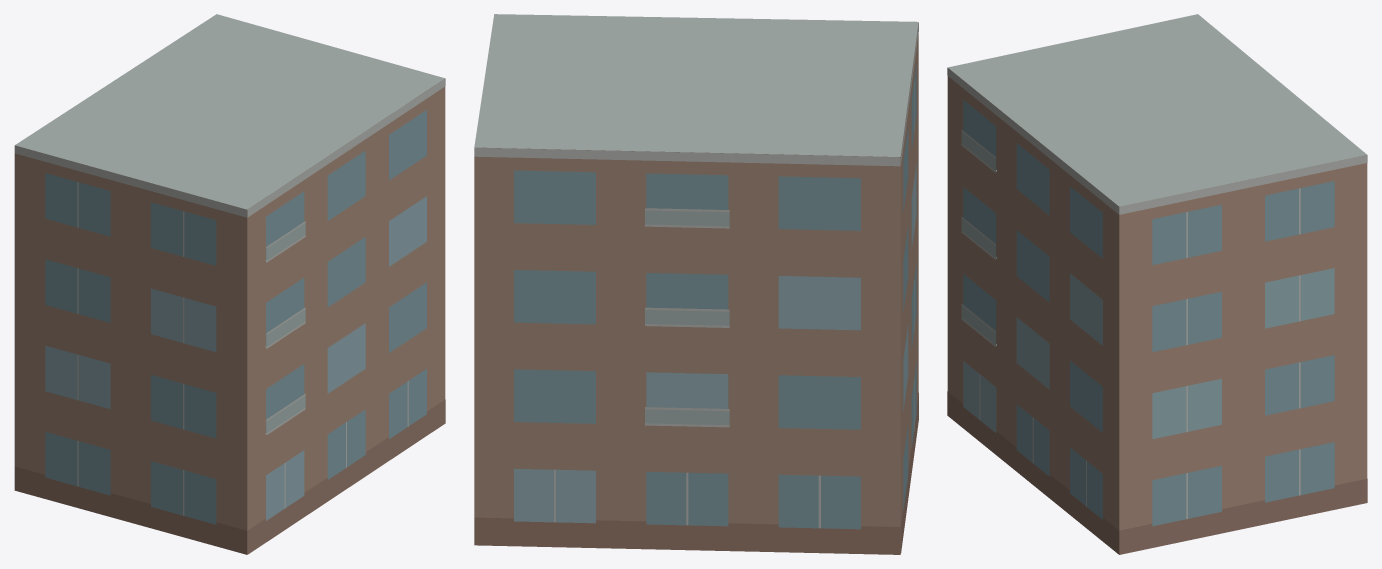
File: survey-upis-32710977.glb
The picture shows the model from 3 angles, left to right: view 1: azimuth 30°, elevation 25°; view 2: azimuth 150°, elevation 25°; view 3: azimuth 270°, elevation 25°; orthographic projection. The views are drawn at different scales.
Parts seen in each view (by area): view 1: survey-upis-32710977.tmp; view 2: survey-upis-32710977.tmp; view 3: survey-upis-32710977.tmp.
Part boxes in pixels (x1=…): survey-upis-32710977.tmp: x1=14, y1=14, x2=445, y2=554; survey-upis-32710977.tmp: x1=474, y1=14, x2=918, y2=554; survey-upis-32710977.tmp: x1=947, y1=14, x2=1367, y2=554.
Size of the model in its own units: 12.48 by 10.5 by 11.49.
